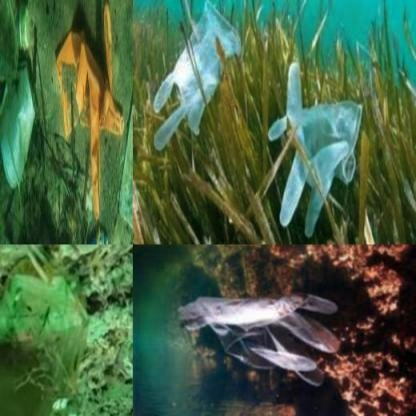Mask: (0, 244, 91, 415)
glove: (262, 57, 364, 243), (172, 290, 340, 387), (150, 1, 243, 159), (59, 1, 124, 218)
